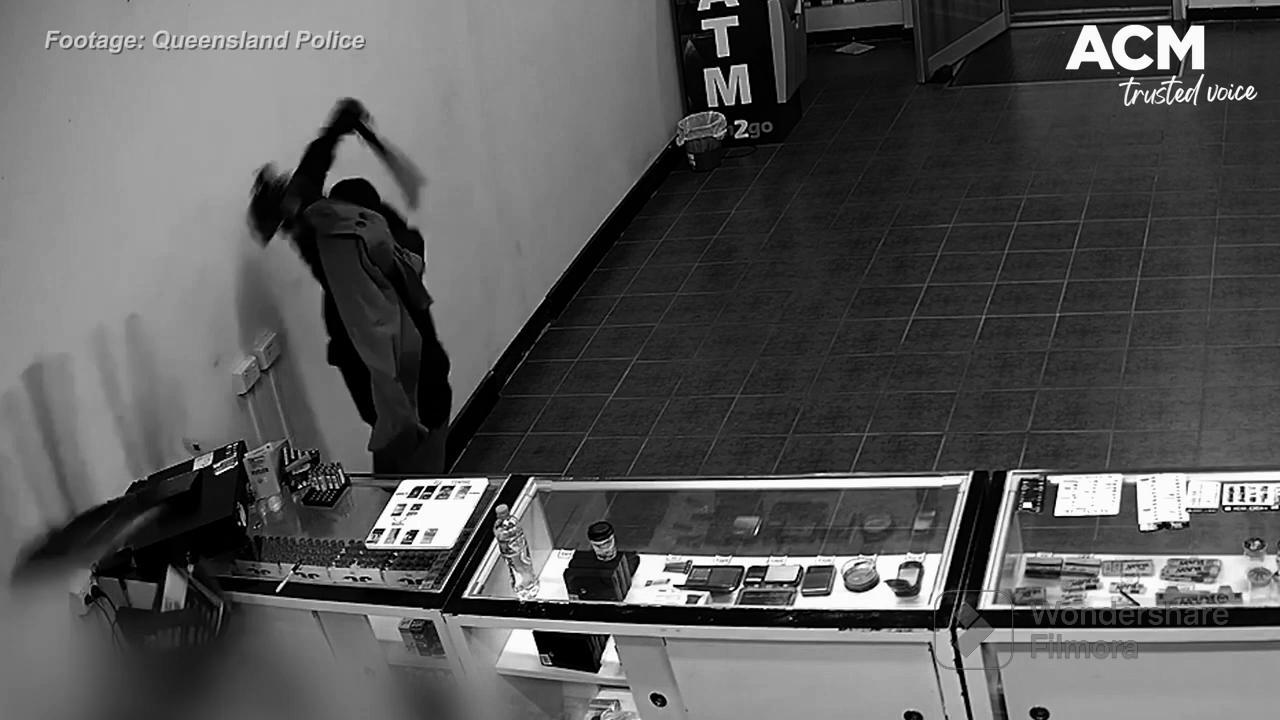melee: (344, 107, 425, 204)
